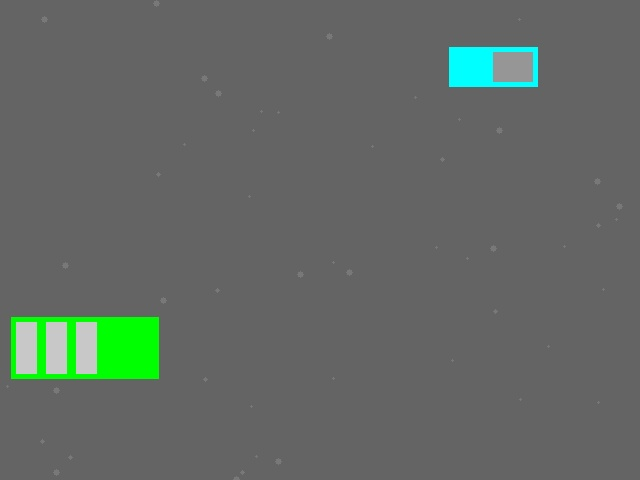bus: (11, 317, 158, 378)
truck: (449, 47, 537, 86)
